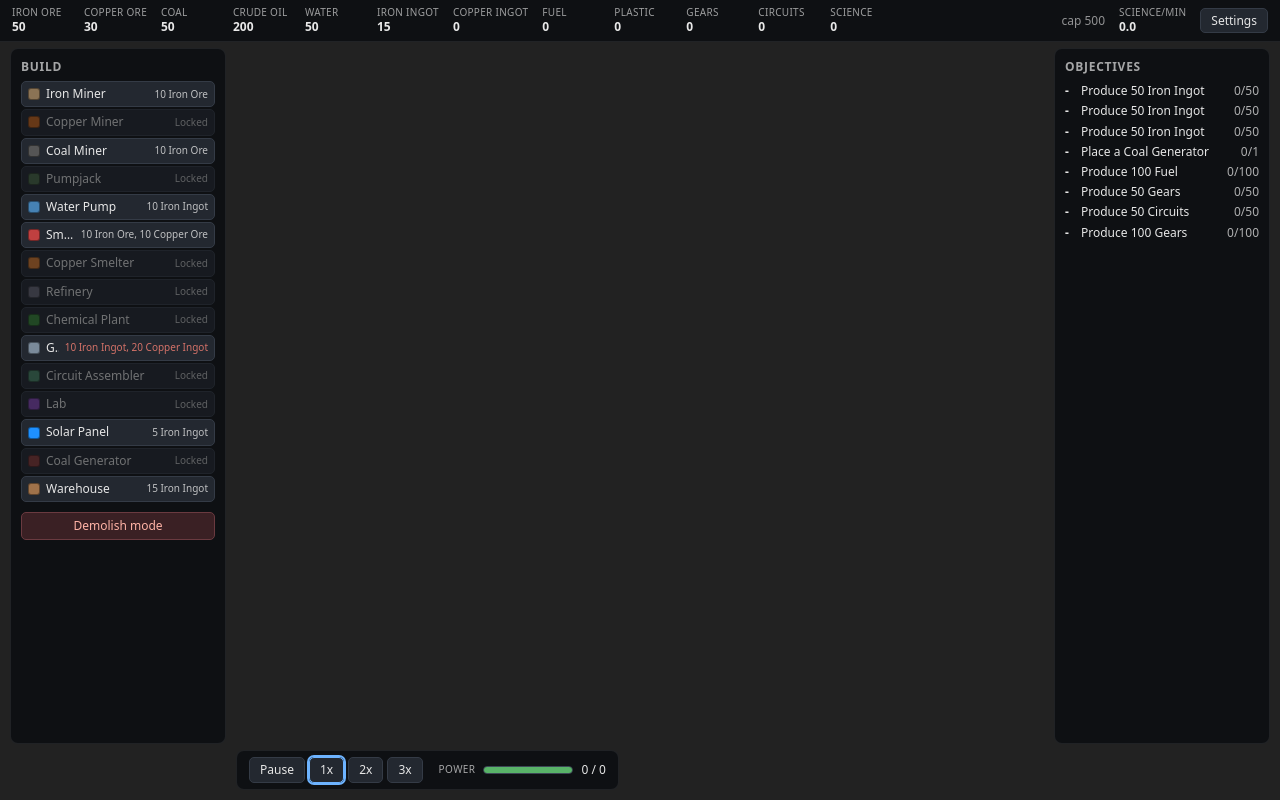
UI › export and import from the settings menu › exports the live save as base64 and copies it to the clipboard
Click the button "Settings".
click(1234, 20)  # box [1200, 8, 1268, 33]
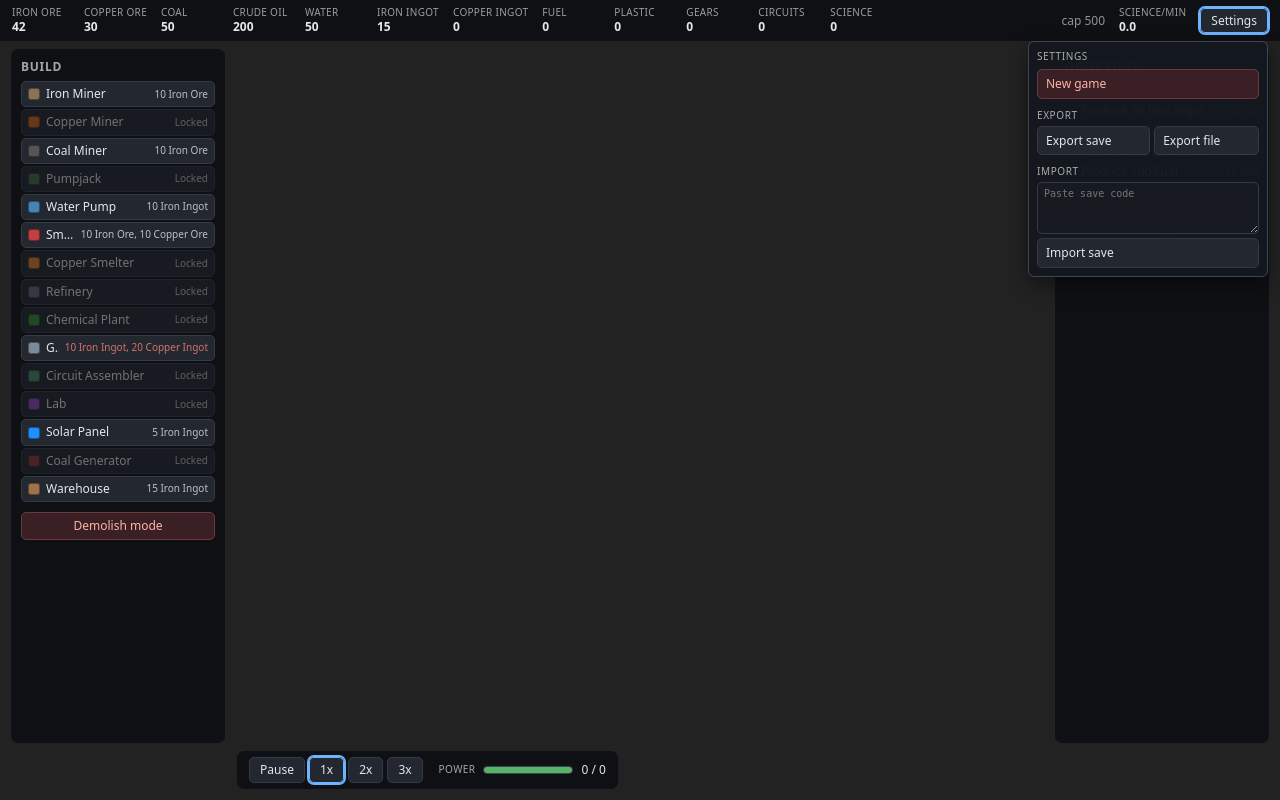
Click the menu item "Export save".
click(1094, 140)  # box [1037, 126, 1150, 155]
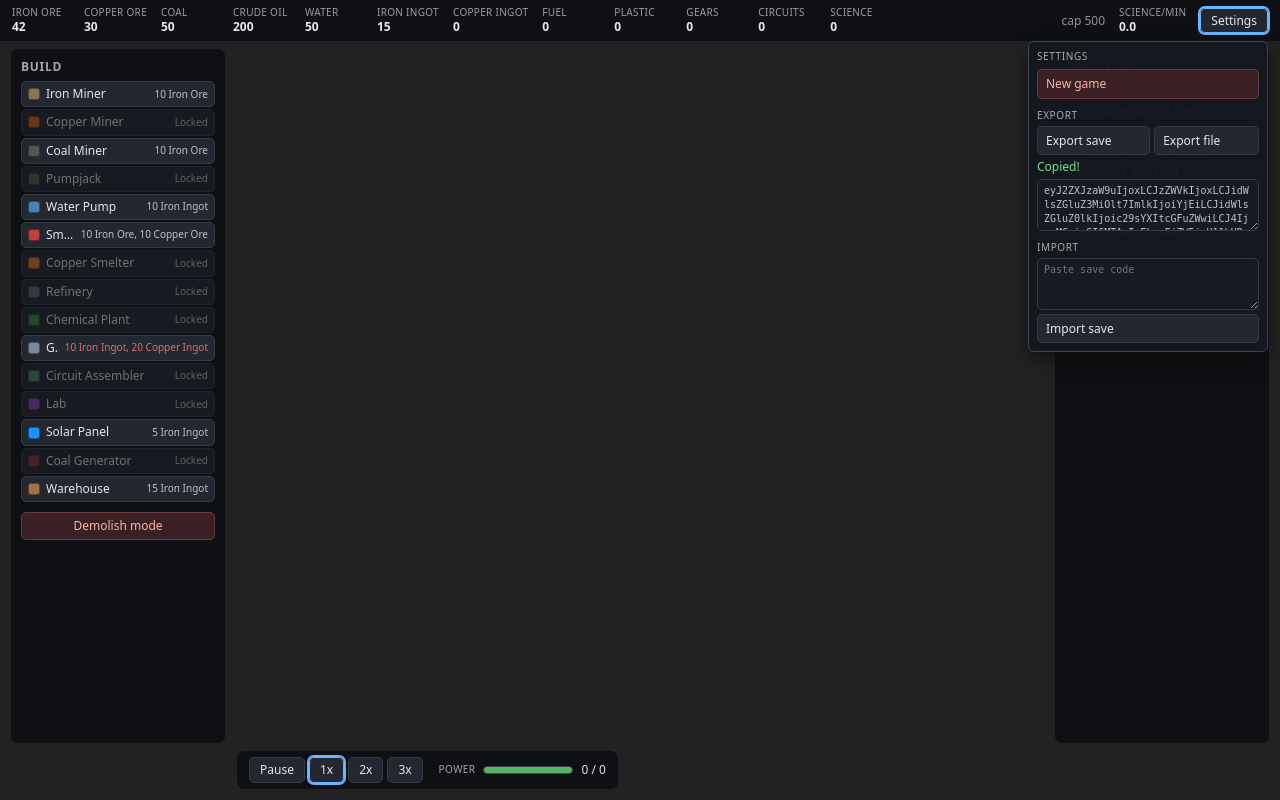
Expected: the text "Copied!" is shown, [1037, 158, 1080, 175]
